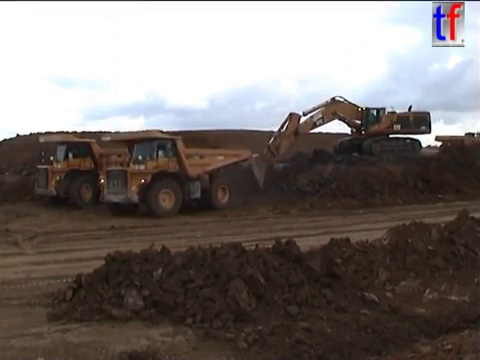excavator: (230, 94, 434, 191)
truck: (95, 130, 254, 217), (32, 131, 167, 208), (433, 129, 480, 156)
